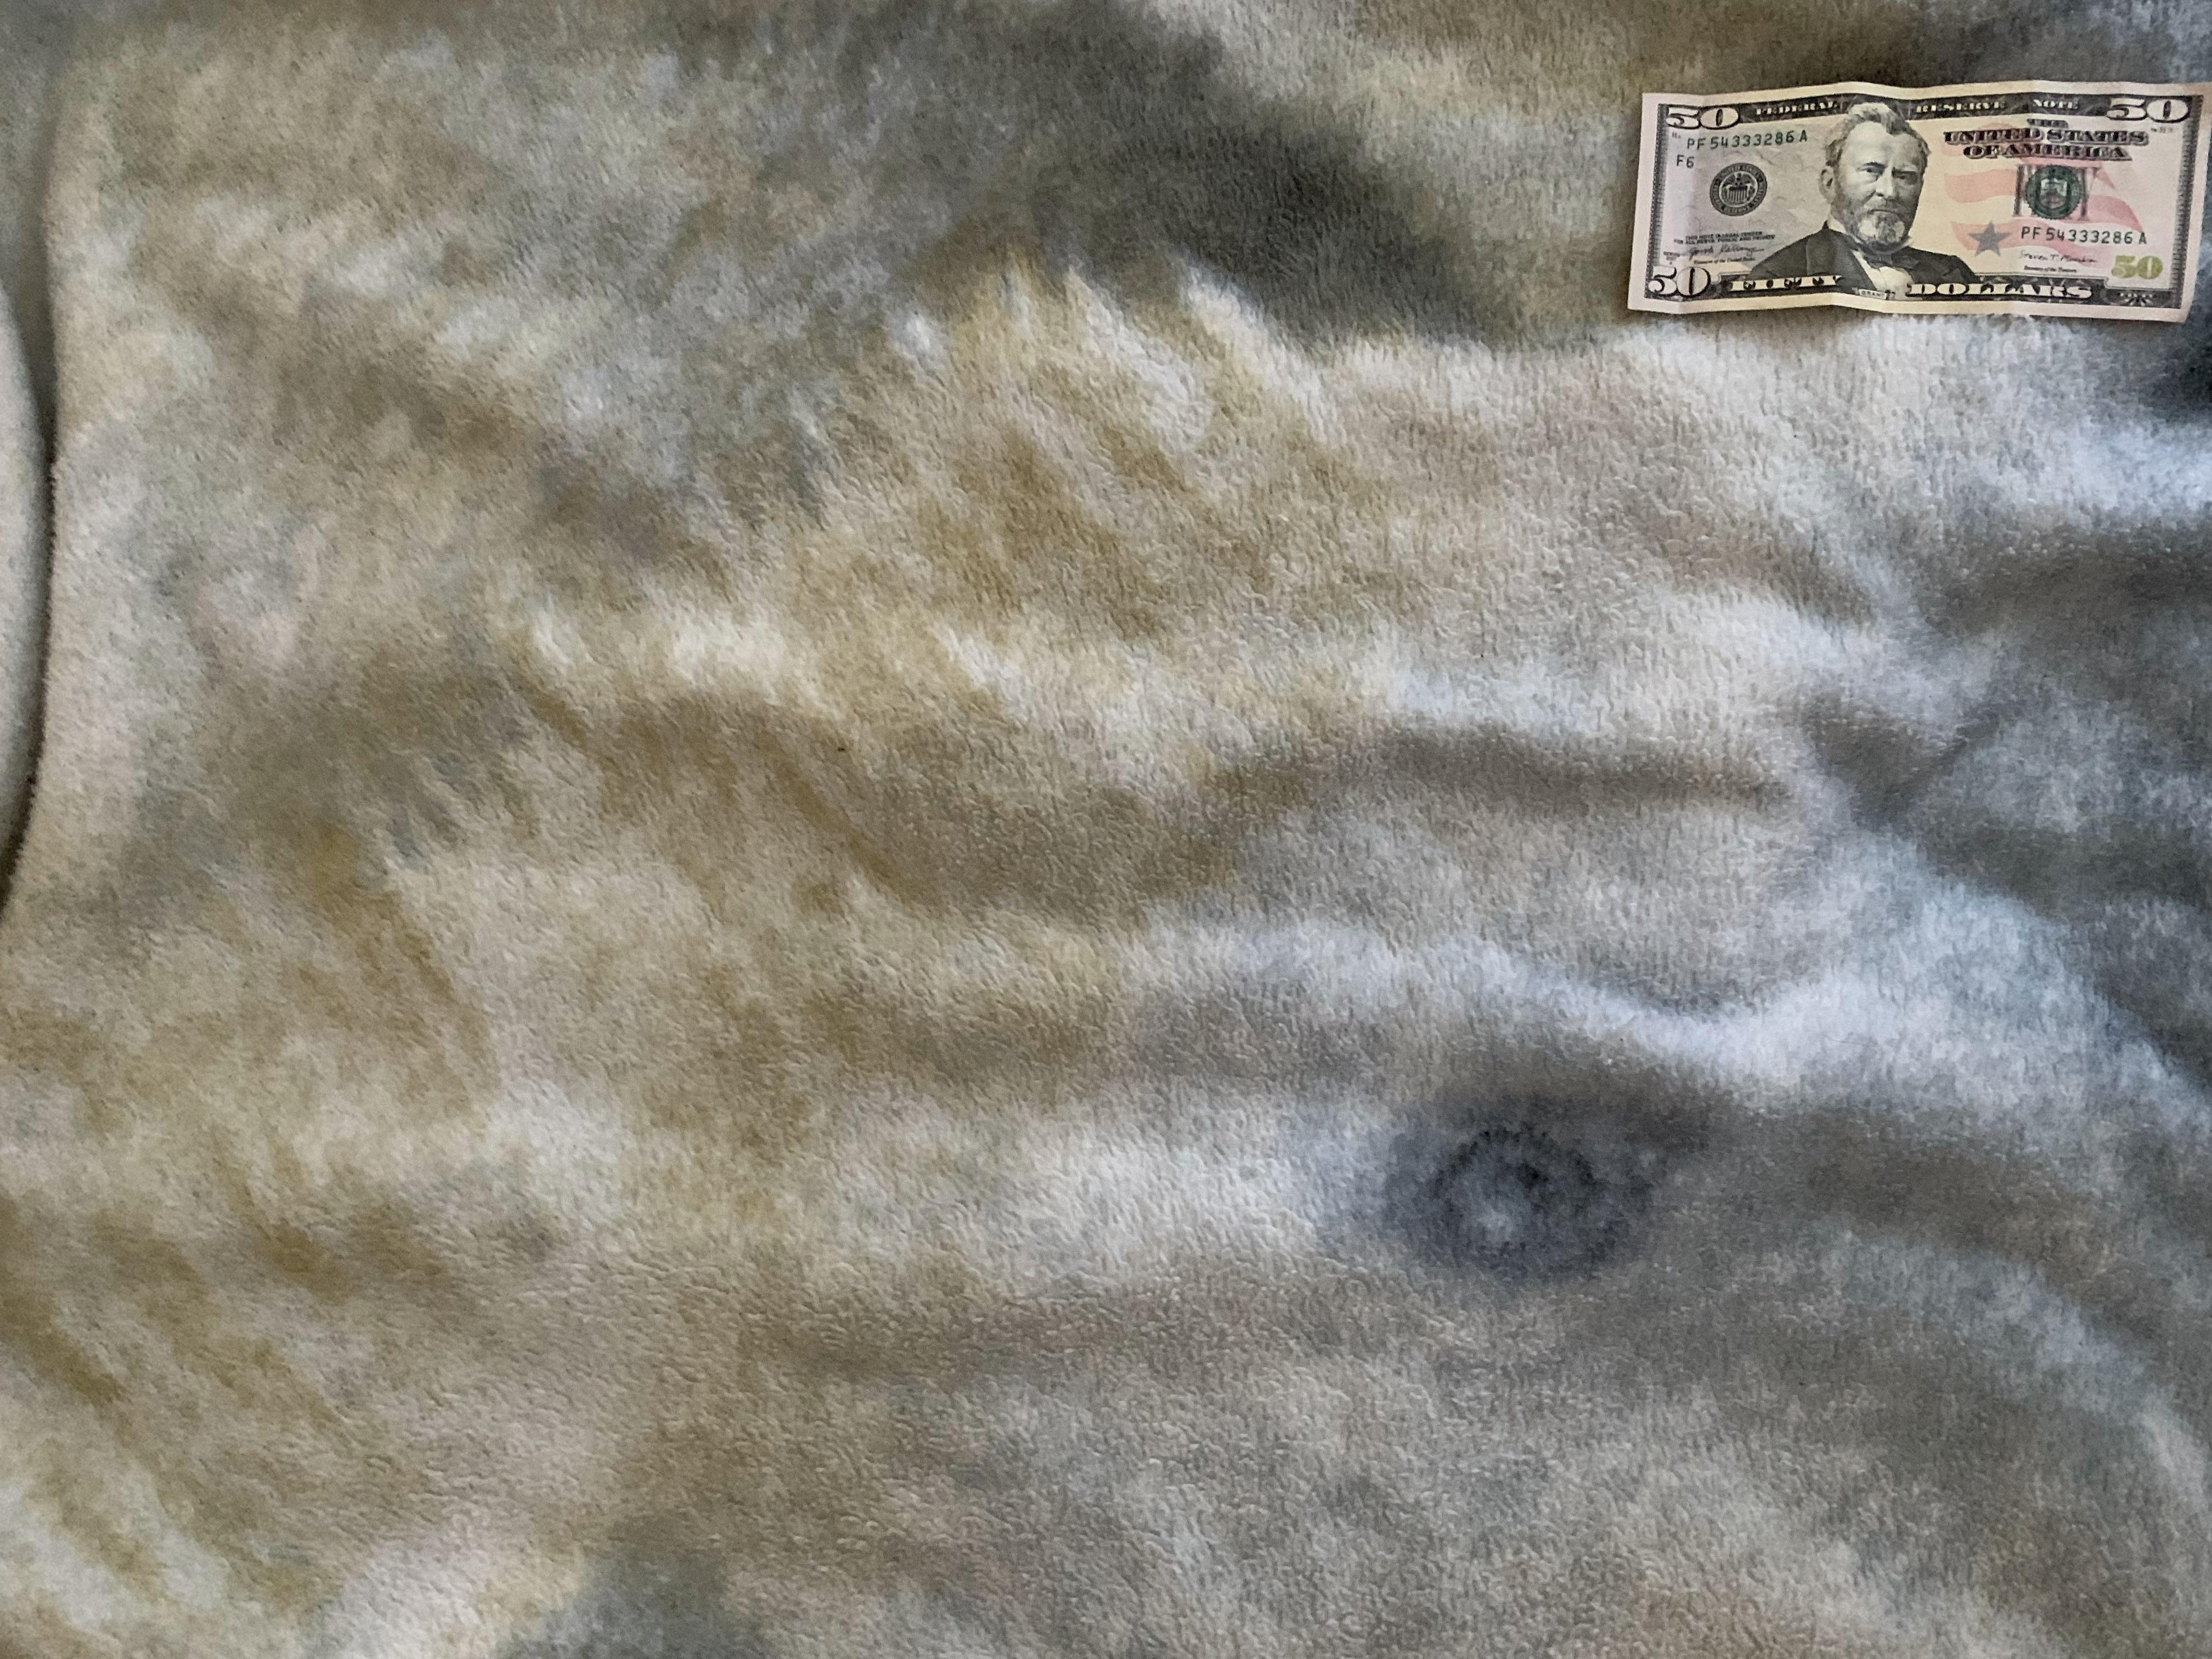FiftyBill: (1613, 66, 2210, 319)
